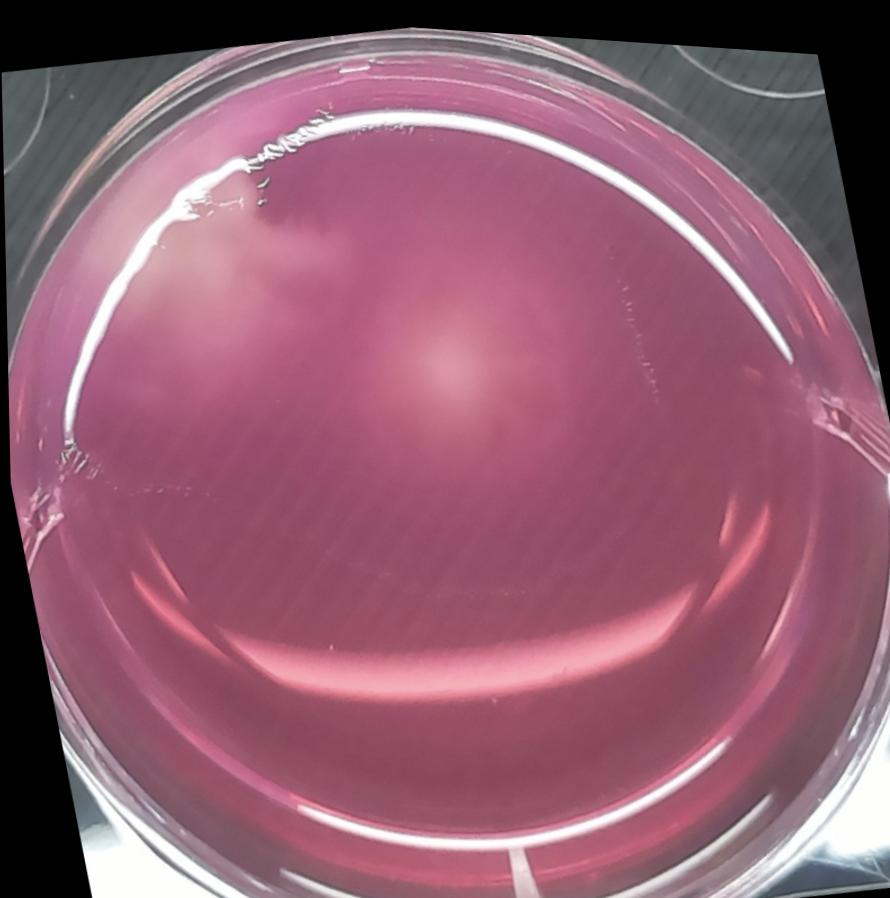vproteolyticus: (251, 145, 703, 626), (2, 86, 399, 522)
